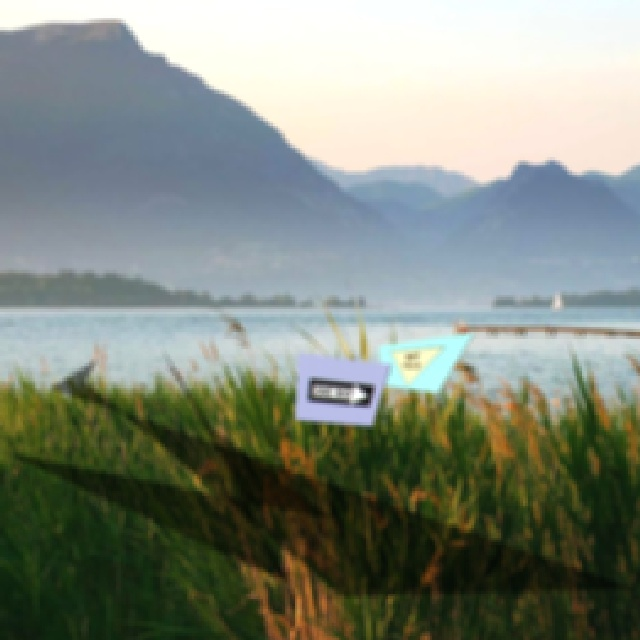NOT_YIELD: (385, 338, 443, 389)
ONE_WAY_ right: (304, 376, 373, 407)
